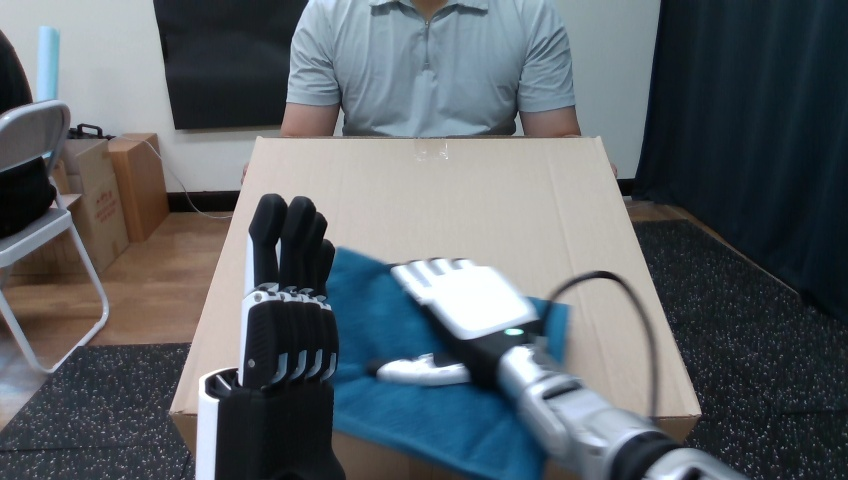left robot hand: (376, 258, 744, 479), (196, 194, 344, 479)
